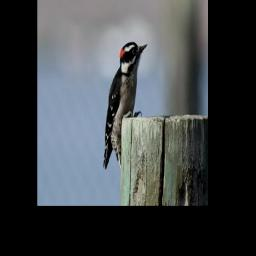Woodpecker: (103, 41, 148, 168)
